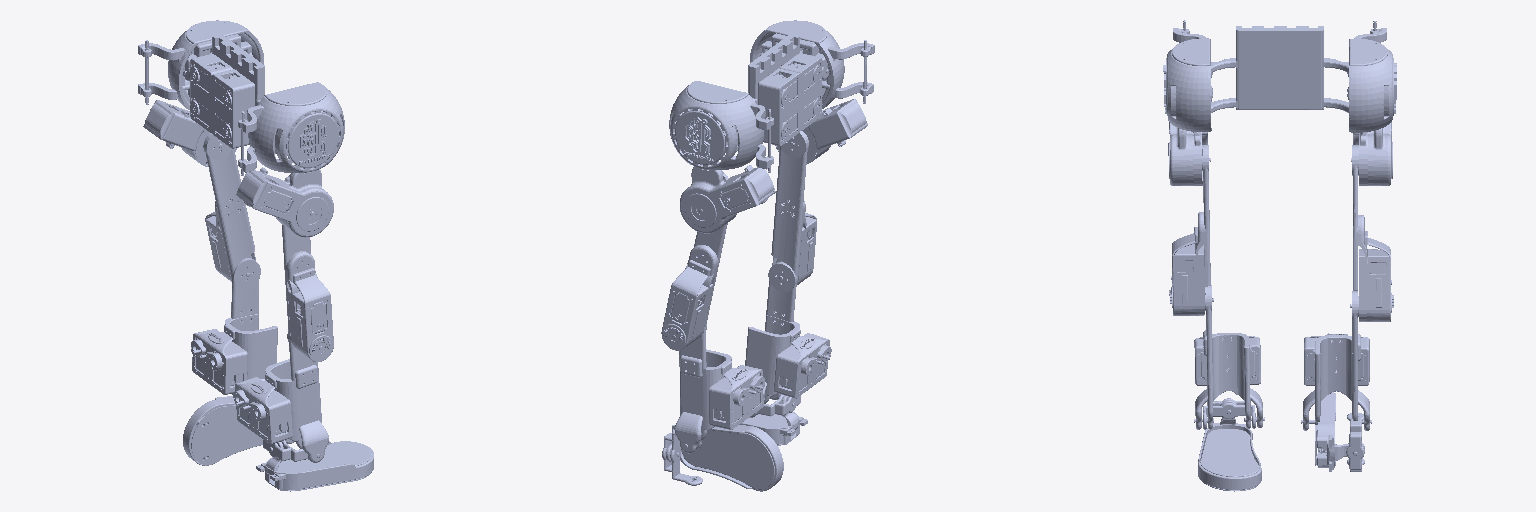
The robot description file, URDF, robot "exo3":
<robot
  name="exo3">
  <link
    name="pelvis_link">
    <inertial>
      <origin
        xyz="-0.0229570391634382 9.79841631493228E-06 -0.0791579286364338"
        rpy="0 0 0" />
      <mass
        value="0.876180506785054" />
      <inertia
        ixx="0.0018274599707449"
        ixy="2.77946712790388E-06"
        ixz="-2.82148369387854E-05"
        iyy="0.000542716087592879"
        iyz="-1.88988098707529E-06"
        izz="0.00181893616699862" />
    </inertial>
    <visual>
      <origin
        xyz="0 0 0"
        rpy="0 0 0" />
      <geometry>
        <mesh
          filename="package://exo3/meshes/pelvis_link.STL" />
      </geometry>
      <material
        name="">
        <color
          rgba="0.792156862745098 0.819607843137255 0.933333333333333 1" />
      </material>
    </visual>
    <collision>
      <origin
        xyz="0 0 0"
        rpy="0 0 0" />
      <geometry>
        <mesh
          filename="package://exo3/meshes/pelvis_link.STL" />
      </geometry>
    </collision>
  </link>
  <link
    name="l_leg_hip_y_link">
    <inertial>
      <origin
        xyz="0.00019487 3.99E-05 0.0028585"
        rpy="0 0 0" />
      <mass
        value="0.086528" />
      <inertia
        ixx="1.1391E-06"
        ixy="-1.1141E-10"
        ixz="-2.3723E-08"
        iyy="6.29E-06"
        iyz="-4.8573E-09"
        izz="5.1509E-06" />
    </inertial>
    <visual>
      <origin
        xyz="0 0 0"
        rpy="0 0 0" />
      <geometry>
        <mesh
          filename="package://exo3/meshes/l_leg_hip_y_link.STL" />
      </geometry>
      <material
        name="">
        <color
          rgba="0.79216 0.81961 0.93333 1" />
      </material>
    </visual>
    <collision>
      <origin
        xyz="0 0 0"
        rpy="0 0 0" />
      <geometry>
        <mesh
          filename="package://exo3/meshes/l_leg_hip_y_link.STL" />
      </geometry>
    </collision>
  </link>
  <joint
    name="l_leg_hip_y"
    type="revolute">
    <origin
      xyz="0.023 0.125 -0.0813"
      rpy="0 0 0" />
    <parent
      link="pelvis_link" />
    <child
      link="l_leg_hip_y_link" />
    <axis
      xyz="0 0 1" />
    <limit
      effort="0"
      velocity="0" />
  </joint>
  <link
    name="l_leg_hip_r_link">
    <inertial>
      <origin
        xyz="-0.0228672098615242 0.026657202473467 -0.0578970138026583"
        rpy="0 0 0" />
      <mass
        value="0.57732261179279" />
      <inertia
        ixx="0.0018145712595036"
        ixy="-1.42788361438728E-05"
        ixz="-0.000341806477751158"
        iyy="0.00199151436868998"
        iyz="-4.24239917577178E-06"
        izz="0.000385603527413131" />
    </inertial>
    <visual>
      <origin
        xyz="0 0 0"
        rpy="0 0 0" />
      <geometry>
        <mesh
          filename="package://exo3/meshes/l_leg_hip_r_link.STL" />
      </geometry>
      <material
        name="">
        <color
          rgba="0.792156862745098 0.819607843137255 0.933333333333333 1" />
      </material>
    </visual>
    <collision>
      <origin
        xyz="0 0 0"
        rpy="0 0 0" />
      <geometry>
        <mesh
          filename="package://exo3/meshes/l_leg_hip_r_link.STL" />
      </geometry>
    </collision>
  </link>
  <joint
    name="l_leg_hip_r"
    type="revolute">
    <origin
      xyz="0 0 0"
      rpy="0 0 0" />
    <parent
      link="l_leg_hip_y_link" />
    <child
      link="l_leg_hip_r_link" />
    <axis
      xyz="1 0 0" />
    <limit
      effort="0"
      velocity="0" />
  </joint>
  <link
    name="l_leg_hip_p_link">
    <inertial>
      <origin
        xyz="0.032679916729136 0.0184001566504312 -0.155832585944074"
        rpy="0 0 0" />
      <mass
        value="0.286678555449467" />
      <inertia
        ixx="0.00109766395282413"
        ixy="-4.33668874240306E-05"
        ixz="0.000211619413639588"
        iyy="0.00105321955565092"
        iyz="0.000201698351735855"
        izz="0.000136166914622637" />
    </inertial>
    <visual>
      <origin
        xyz="0 0 0"
        rpy="0 0 0" />
      <geometry>
        <mesh
          filename="package://exo3/meshes/l_leg_hip_p_link.STL" />
      </geometry>
      <material
        name="">
        <color
          rgba="0.792156862745098 0.819607843137255 0.933333333333333 1" />
      </material>
    </visual>
    <collision>
      <origin
        xyz="0 0 0"
        rpy="0 0 0" />
      <geometry>
        <mesh
          filename="package://exo3/meshes/l_leg_hip_p_link.STL" />
      </geometry>
    </collision>
  </link>
  <joint
    name="l_leg_hip_p"
    type="revolute">
    <origin
      xyz="0.000765 -0.00018721 -0.14104"
      rpy="0 0 0" />
    <parent
      link="l_leg_hip_r_link" />
    <child
      link="l_leg_hip_p_link" />
    <axis
      xyz="0 1 0" />
    <limit
      effort="0"
      velocity="0" />
  </joint>
  <link
    name="l_leg_kn_p_link">
    <inertial>
      <origin
        xyz="-0.0371195392851623 -0.0290806755044999 -0.127161963516103"
        rpy="0 0 0" />
      <mass
        value="0.501847197637449" />
      <inertia
        ixx="0.000743351806811445"
        ixy="-5.28895214340486E-05"
        ixz="-4.63291190422424E-05"
        iyy="0.00096853459109222"
        iyz="-0.000141414322901028"
        izz="0.000584483910415871" />
    </inertial>
    <visual>
      <origin
        xyz="0 0 0"
        rpy="0 0 0" />
      <geometry>
        <mesh
          filename="package://exo3/meshes/l_leg_kn_p_link.STL" />
      </geometry>
      <material
        name="">
        <color
          rgba="0.792156862745098 0.819607843137255 0.933333333333333 1" />
      </material>
    </visual>
    <collision>
      <origin
        xyz="0 0 0"
        rpy="0 0 0" />
      <geometry>
        <mesh
          filename="package://exo3/meshes/l_leg_kn_p_link.STL" />
      </geometry>
    </collision>
  </link>
  <joint
    name="l_leg_kn_p"
    type="revolute">
    <origin
      xyz="0.050381 -0.00051236 -0.23986"
      rpy="0 0 0" />
    <parent
      link="l_leg_hip_p_link" />
    <child
      link="l_leg_kn_p_link" />
    <axis
      xyz="0 1 0" />
    <limit
      effort="0"
      velocity="0" />
  </joint>
  <link
    name="l_leg_an_p_link">
    <inertial>
      <origin
        xyz="0.0299480772894787 -0.000490139450893823 -0.0319861956901267"
        rpy="0 0 0" />
      <mass
        value="0.0325752781010226" />
      <inertia
        ixx="4.18279460088871E-06"
        ixy="4.31654985141695E-08"
        ixz="-1.58654211800639E-12"
        iyy="6.81954692472973E-06"
        iyz="2.59657210797218E-14"
        izz="2.63816524469736E-06" />
    </inertial>
    <visual>
      <origin
        xyz="0 0 0"
        rpy="0 0 0" />
      <geometry>
        <mesh
          filename="package://exo3/meshes/l_leg_an_p_link.STL" />
      </geometry>
      <material
        name="">
        <color
          rgba="0.792156862745098 0.819607843137255 0.933333333333333 1" />
      </material>
    </visual>
    <collision>
      <origin
        xyz="0 0 0"
        rpy="0 0 0" />
      <geometry>
        <mesh
          filename="package://exo3/meshes/l_leg_an_p_link.STL" />
      </geometry>
    </collision>
  </link>
  <joint
    name="l_leg_an_p"
    type="revolute">
    <origin
      xyz="-0.0035327 -0.00026509 -0.20997"
      rpy="0 0 0" />
    <parent
      link="l_leg_kn_p_link" />
    <child
      link="l_leg_an_p_link" />
    <axis
      xyz="0 0 1" />
    <limit
      effort="0"
      velocity="0" />
  </joint>
  <link
    name="l_leg_an_r_link">
    <inertial>
      <origin
        xyz="-0.0369632207617154 -0.0454612151697915 -0.0315070725221814"
        rpy="0 0 0" />
      <mass
        value="0.204476468319054" />
      <inertia
        ixx="2.90497940214471E-05"
        ixy="-6.5651206273394E-06"
        ixz="-2.22664662511733E-06"
        iyy="7.42294356015338E-05"
        iyz="-1.10255877547297E-07"
        izz="7.35948114762979E-05" />
    </inertial>
    <visual>
      <origin
        xyz="0 0 0"
        rpy="0 0 0" />
      <geometry>
        <mesh
          filename="package://exo3/meshes/l_leg_an_r_link.STL" />
      </geometry>
      <material
        name="">
        <color
          rgba="0.792156862745098 0.819607843137255 0.933333333333333 1" />
      </material>
    </visual>
    <collision>
      <origin
        xyz="0 0 0"
        rpy="0 0 0" />
      <geometry>
        <mesh
          filename="package://exo3/meshes/l_leg_an_r_link.STL" />
      </geometry>
    </collision>
  </link>
  <joint
    name="l_leg_an_r"
    type="revolute">
    <origin
      xyz="0 0 0"
      rpy="0 0 0" />
    <parent
      link="l_leg_an_p_link" />
    <child
      link="l_leg_an_r_link" />
    <axis
      xyz="-1 0 0" />
    <limit
      effort="0"
      velocity="0" />
  </joint>
  <link
    name="r_leg_hip_y_link">
    <inertial>
      <origin
        xyz="0.000194859023416288 -3.99011003911799E-05 0.0028585007264543"
        rpy="0 0 0" />
      <mass
        value="0.0865285747250378" />
      <inertia
        ixx="1.13912095207424E-06"
        ixy="1.11410861161037E-10"
        ixz="-2.37218084077256E-08"
        iyy="6.28996524419591E-06"
        iyz="4.85749257153174E-09"
        izz="5.15088991911781E-06" />
    </inertial>
    <visual>
      <origin
        xyz="0 0 0"
        rpy="0 0 0" />
      <geometry>
        <mesh
          filename="package://exo3/meshes/r_leg_hip_y_link.STL" />
      </geometry>
      <material
        name="">
        <color
          rgba="0.792156862745098 0.819607843137255 0.933333333333333 1" />
      </material>
    </visual>
    <collision>
      <origin
        xyz="0 0 0"
        rpy="0 0 0" />
      <geometry>
        <mesh
          filename="package://exo3/meshes/r_leg_hip_y_link.STL" />
      </geometry>
    </collision>
  </link>
  <joint
    name="r_leg_hip_y"
    type="revolute">
    <origin
      xyz="0.023 -0.125 -0.0813"
      rpy="0 0 0" />
    <parent
      link="pelvis_link" />
    <child
      link="r_leg_hip_y_link" />
    <axis
      xyz="0 0 1" />
    <limit
      effort="0"
      velocity="0" />
  </joint>
  <link
    name="r_leg_hip_r_link">
    <inertial>
      <origin
        xyz="-0.0238770079585271 -0.0258761502101602 -0.0582507810958505"
        rpy="0 0 0" />
      <mass
        value="0.577328048094973" />
      <inertia
        ixx="0.0018145589879105"
        ixy="1.86697078708302E-05"
        ixz="-0.000341277661370656"
        iyy="0.00199082000435136"
        iyz="2.58316513440987E-05"
        izz="0.00038573183130016" />
    </inertial>
    <visual>
      <origin
        xyz="0 0 0"
        rpy="0 0 0" />
      <geometry>
        <mesh
          filename="package://exo3/meshes/r_leg_hip_r_link.STL" />
      </geometry>
      <material
        name="">
        <color
          rgba="0.792156862745098 0.819607843137255 0.933333333333333 1" />
      </material>
    </visual>
    <collision>
      <origin
        xyz="0 0 0"
        rpy="0 0 0" />
      <geometry>
        <mesh
          filename="package://exo3/meshes/r_leg_hip_r_link.STL" />
      </geometry>
    </collision>
  </link>
  <joint
    name="r_leg_hip_r"
    type="revolute">
    <origin
      xyz="0 0 0"
      rpy="0 0 0" />
    <parent
      link="r_leg_hip_y_link" />
    <child
      link="r_leg_hip_r_link" />
    <axis
      xyz="1 0 0" />
    <limit
      effort="0"
      velocity="0" />
  </joint>
  <link
    name="r_leg_hip_p_link">
    <inertial>
      <origin
        xyz="0.0119162167049422 -0.0160889612900433 -0.159019579168821"
        rpy="0 0 0" />
      <mass
        value="0.286678786770337" />
      <inertia
        ixx="0.00113459314865265"
        ixy="1.62949619200086E-05"
        ixz="8.0589762179723E-05"
        iyy="0.00105887331308655"
        iyz="-0.000191213526187752"
        izz="9.08598704249653E-05" />
    </inertial>
    <visual>
      <origin
        xyz="0 0 0"
        rpy="0 0 0" />
      <geometry>
        <mesh
          filename="package://exo3/meshes/r_leg_hip_p_link.STL" />
      </geometry>
      <material
        name="">
        <color
          rgba="0.792156862745098 0.819607843137255 0.933333333333333 1" />
      </material>
    </visual>
    <collision>
      <origin
        xyz="0 0 0"
        rpy="0 0 0" />
      <geometry>
        <mesh
          filename="package://exo3/meshes/r_leg_hip_p_link.STL" />
      </geometry>
    </collision>
  </link>
  <joint
    name="r_leg_hip_p"
    type="revolute">
    <origin
      xyz="-0.000235 0.0020842 -0.14103"
      rpy="0 0 0" />
    <parent
      link="r_leg_hip_r_link" />
    <child
      link="r_leg_hip_p_link" />
    <axis
      xyz="0 1 0" />
    <limit
      effort="0"
      velocity="0" />
  </joint>
  <link
    name="r_leg_kn_p_link">
    <inertial>
      <origin
        xyz="-0.0252867564411349 0.0309808685867961 -0.129705092898568"
        rpy="0 0 0" />
      <mass
        value="0.501849157200233" />
      <inertia
        ixx="0.000749537517045014"
        ixy="3.60981923292043E-05"
        ixz="-3.22295673042985E-05"
        iyy="0.00096552086224131"
        iyz="0.000150693128088677"
        izz="0.000581130320590421" />
    </inertial>
    <visual>
      <origin
        xyz="0 0 0"
        rpy="0 0 0" />
      <geometry>
        <mesh
          filename="package://exo3/meshes/r_leg_kn_p_link.STL" />
      </geometry>
      <material
        name="">
        <color
          rgba="0.792156862745098 0.819607843137255 0.933333333333333 1" />
      </material>
    </visual>
    <collision>
      <origin
        xyz="0 0 0"
        rpy="0 0 0" />
      <geometry>
        <mesh
          filename="package://exo3/meshes/r_leg_kn_p_link.STL" />
      </geometry>
    </collision>
  </link>
  <joint
    name="r_leg_kn_p"
    type="revolute">
    <origin
      xyz="0.017958 0.0039708 -0.2444"
      rpy="0 0 0" />
    <parent
      link="r_leg_hip_p_link" />
    <child
      link="r_leg_kn_p_link" />
    <axis
      xyz="0 1 0" />
    <limit
      effort="0"
      velocity="0" />
  </joint>
  <link
    name="r_leg_an_p_link">
    <inertial>
      <origin
        xyz="-0.0299422548828775 -0.000603810508363528 0.000473709358195573"
        rpy="0 0 0" />
      <mass
        value="0.0325752783592805" />
      <inertia
        ixx="4.18215960680285E-06"
        ixy="3.01427082636767E-08"
        ixz="4.29418209436284E-08"
        iyy="2.63966704904228E-06"
        iyz="-6.09409672295196E-08"
        izz="6.81868033748236E-06" />
    </inertial>
    <visual>
      <origin
        xyz="0 0 0"
        rpy="0 0 0" />
      <geometry>
        <mesh
          filename="package://exo3/meshes/r_leg_an_p_link.STL" />
      </geometry>
      <material
        name="">
        <color
          rgba="0.792156862745098 0.819607843137255 0.933333333333333 1" />
      </material>
    </visual>
    <collision>
      <origin
        xyz="0 0 0"
        rpy="0 0 0" />
      <geometry>
        <mesh
          filename="package://exo3/meshes/r_leg_an_p_link.STL" />
      </geometry>
    </collision>
  </link>
  <joint
    name="r_leg_an_p"
    type="revolute">
    <origin
      xyz="0.015862 0.035899 -0.20884"
      rpy="0 0 0" />
    <parent
      link="r_leg_kn_p_link" />
    <child
      link="r_leg_an_p_link" />
    <axis
      xyz="0 1 0" />
    <limit
      effort="0"
      velocity="0" />
  </joint>
  <link
    name="r_leg_an_r_link">
    <inertial>
      <origin
        xyz="0.0358849369545741 -0.00053467979911986 -0.0464786355713222"
        rpy="0 0 0" />
      <mass
        value="0.199852807617439" />
      <inertia
        ixx="2.90543990160774E-05"
        ixy="-2.47317359090037E-06"
        ixz="9.02195098558628E-06"
        iyy="6.35247388818592E-05"
        iyz="3.37056813986097E-07"
        izz="6.36415178935691E-05" />
    </inertial>
    <visual>
      <origin
        xyz="0 0 0"
        rpy="0 0 0" />
      <geometry>
        <mesh
          filename="package://exo3/meshes/r_leg_an_r_link.STL" />
      </geometry>
      <material
        name="">
        <color
          rgba="0.792156862745098 0.819607843137255 0.933333333333333 1" />
      </material>
    </visual>
    <collision>
      <origin
        xyz="0 0 0"
        rpy="0 0 0" />
      <geometry>
        <mesh
          filename="package://exo3/meshes/r_leg_an_r_link.STL" />
      </geometry>
    </collision>
  </link>
  <joint
    name="r_leg_an_r"
    type="revolute">
    <origin
      xyz="0 0 0"
      rpy="0 0 0" />
    <parent
      link="r_leg_an_p_link" />
    <child
      link="r_leg_an_r_link" />
    <axis
      xyz="1 0 0" />
    <limit
      effort="0"
      velocity="0" />
  </joint>
</robot>

--- Render facts (derived) ---
The picture shows the robot from 3 angles, left to right: view 1: azimuth 30°, elevation 25°; view 2: azimuth 150°, elevation 25°; view 3: azimuth 270°, elevation 25°; orthographic projection.
Model exo3 with 13 links and 12 joints (12 revolute), rooted at pelvis_link, posed all joints at 0.
Links seen in each view (by area): view 1: r_leg_hip_r_link, r_leg_kn_p_link, l_leg_kn_p_link, pelvis_link, l_leg_hip_r_link, r_leg_hip_p_link, l_leg_hip_p_link, r_leg_an_r_link, l_leg_an_r_link, r_leg_an_p_link, l_leg_hip_y_link; view 2: l_leg_hip_r_link, l_leg_kn_p_link, r_leg_kn_p_link, pelvis_link, r_leg_hip_r_link, l_leg_an_r_link, r_leg_hip_p_link, l_leg_hip_p_link, r_leg_an_r_link, l_leg_an_p_link, r_leg_hip_y_link; view 3: pelvis_link, l_leg_hip_r_link, r_leg_hip_r_link, r_leg_kn_p_link, l_leg_kn_p_link, r_leg_an_r_link, r_leg_hip_p_link, l_leg_hip_p_link, l_leg_an_r_link, l_leg_an_p_link, r_leg_an_p_link.
Boxes of the visible links, bbox=[...] form: r_leg_hip_r_link: bbox=[236, 82, 344, 237]; r_leg_kn_p_link: bbox=[233, 332, 328, 462]; l_leg_kn_p_link: bbox=[191, 258, 277, 394]; pelvis_link: bbox=[190, 34, 287, 155]; l_leg_hip_r_link: bbox=[138, 20, 263, 166]; r_leg_hip_p_link: bbox=[282, 225, 333, 361]; l_leg_hip_p_link: bbox=[203, 133, 255, 281]; r_leg_an_r_link: bbox=[256, 441, 373, 491]; l_leg_an_r_link: bbox=[183, 396, 262, 465]; r_leg_an_p_link: bbox=[263, 440, 308, 461]; l_leg_hip_y_link: bbox=[183, 34, 252, 80]; l_leg_hip_r_link: bbox=[669, 81, 775, 233]; l_leg_kn_p_link: bbox=[674, 324, 764, 453]; r_leg_kn_p_link: bbox=[745, 261, 831, 417]; pelvis_link: bbox=[736, 34, 822, 151]; r_leg_hip_r_link: bbox=[750, 20, 874, 163]; l_leg_an_r_link: bbox=[666, 425, 783, 491]; r_leg_hip_p_link: bbox=[771, 131, 816, 284]; l_leg_hip_p_link: bbox=[661, 223, 727, 350]; r_leg_an_r_link: bbox=[740, 396, 807, 445]; l_leg_an_p_link: bbox=[662, 431, 702, 485]; r_leg_hip_y_link: bbox=[760, 33, 828, 79]; pelvis_link: bbox=[1211, 26, 1348, 112]; l_leg_hip_r_link: bbox=[1347, 21, 1396, 185]; r_leg_hip_r_link: bbox=[1163, 20, 1212, 185]; r_leg_kn_p_link: bbox=[1194, 285, 1264, 429]; l_leg_kn_p_link: bbox=[1301, 291, 1371, 430]; r_leg_an_r_link: bbox=[1198, 400, 1261, 491]; r_leg_hip_p_link: bbox=[1169, 145, 1213, 315]; l_leg_hip_p_link: bbox=[1350, 145, 1393, 321]; l_leg_an_r_link: bbox=[1315, 392, 1364, 471]; l_leg_an_p_link: bbox=[1346, 413, 1364, 471]; r_leg_an_p_link: bbox=[1203, 398, 1255, 429].
Bounding box of the posed robot: 0.2896 × 0.381 × 0.7562 m (x, y, z).
Meshes: 13 distinct files referenced, 13 mesh visuals loaded (13 binary STL).